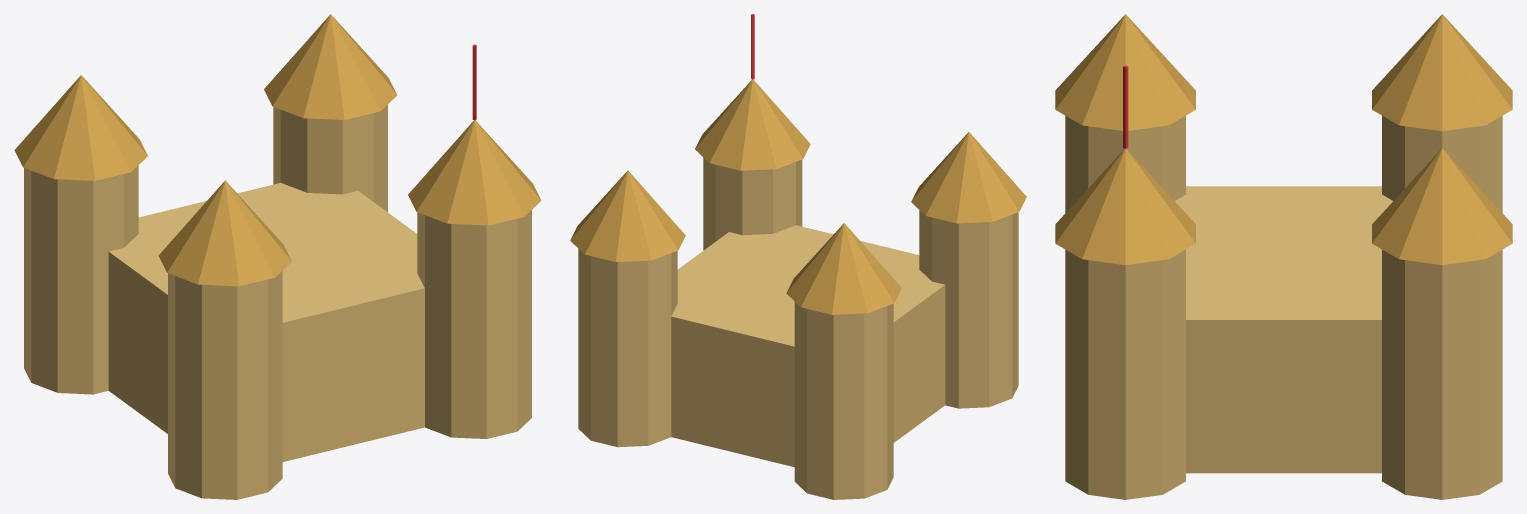
File: sandslott.glb
The picture shows the model from 3 angles, left to right: view 1: azimuth 30°, elevation 25°; view 2: azimuth 150°, elevation 25°; view 3: azimuth 270°, elevation 25°; orthographic projection. The views are drawn at different scales.
Parts seen in each view (by area): view 1: sandslott; view 2: sandslott; view 3: sandslott.
Part boxes in pixels (<box>): sandslott: <box>14,14,541,499</box>; sandslott: <box>570,14,1026,499</box>; sandslott: <box>1055,14,1512,499</box>.
Bounding box in the file's own units: 0.88 × 0.85 × 0.8662.
